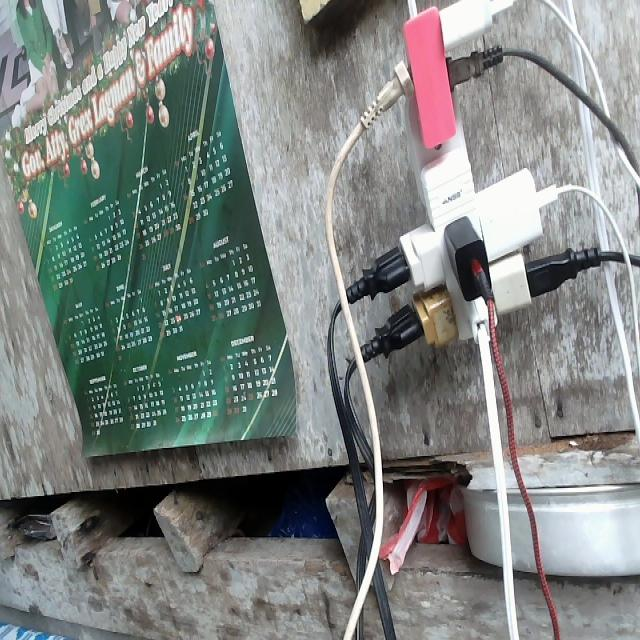-: (316, 0, 639, 437)
